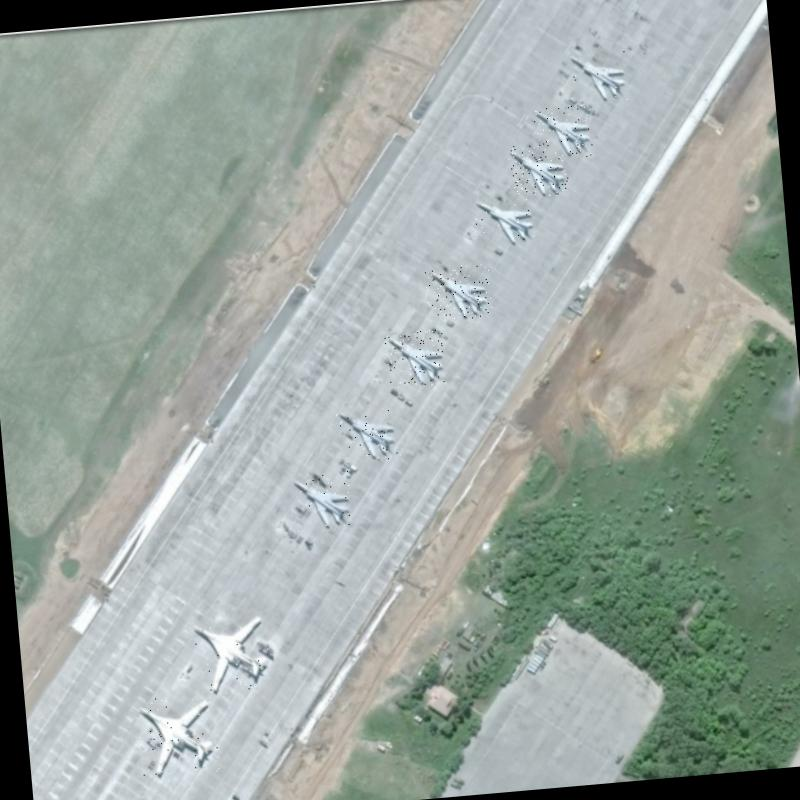A12: (336, 406, 403, 466), (425, 263, 493, 322), (290, 470, 354, 532), (384, 328, 448, 389), (508, 140, 569, 200), (532, 103, 594, 162), (566, 49, 631, 105), (472, 194, 538, 247)
A6: (186, 608, 274, 698), (134, 693, 222, 779)
